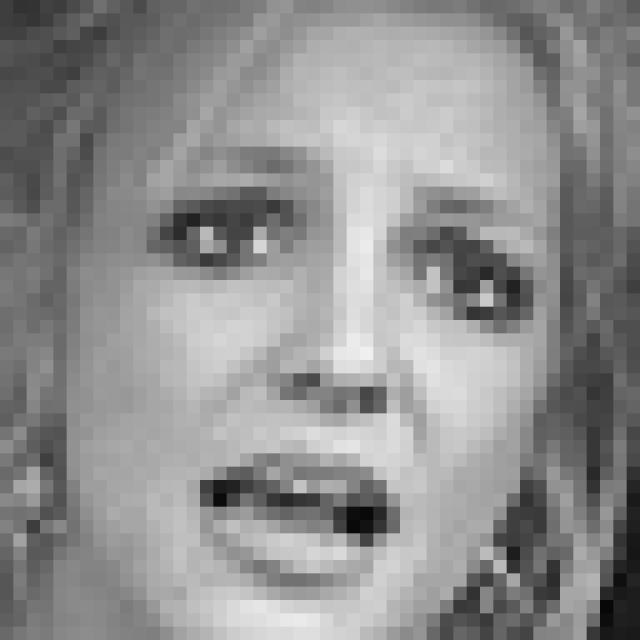sad: (134, 136, 542, 596)
